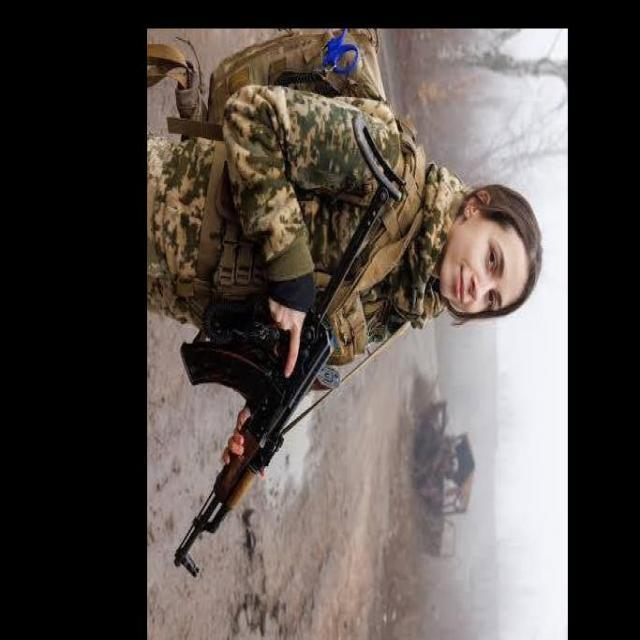weapon: (172, 118, 406, 580)
